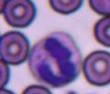N: (28, 31, 81, 87)
